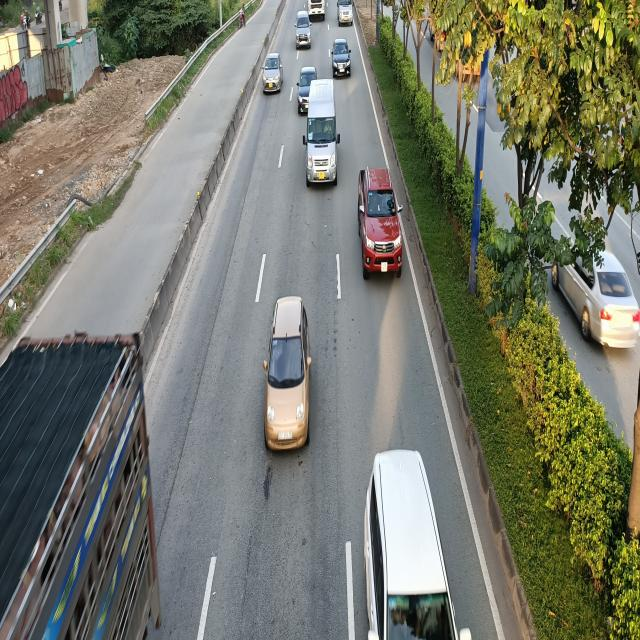car: (263, 295, 313, 451), (354, 167, 401, 279), (264, 52, 284, 93), (332, 38, 352, 78), (296, 11, 313, 48)
van: (305, 80, 343, 188)
